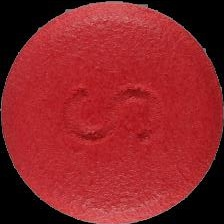63187-499: (0, 0, 224, 224)
